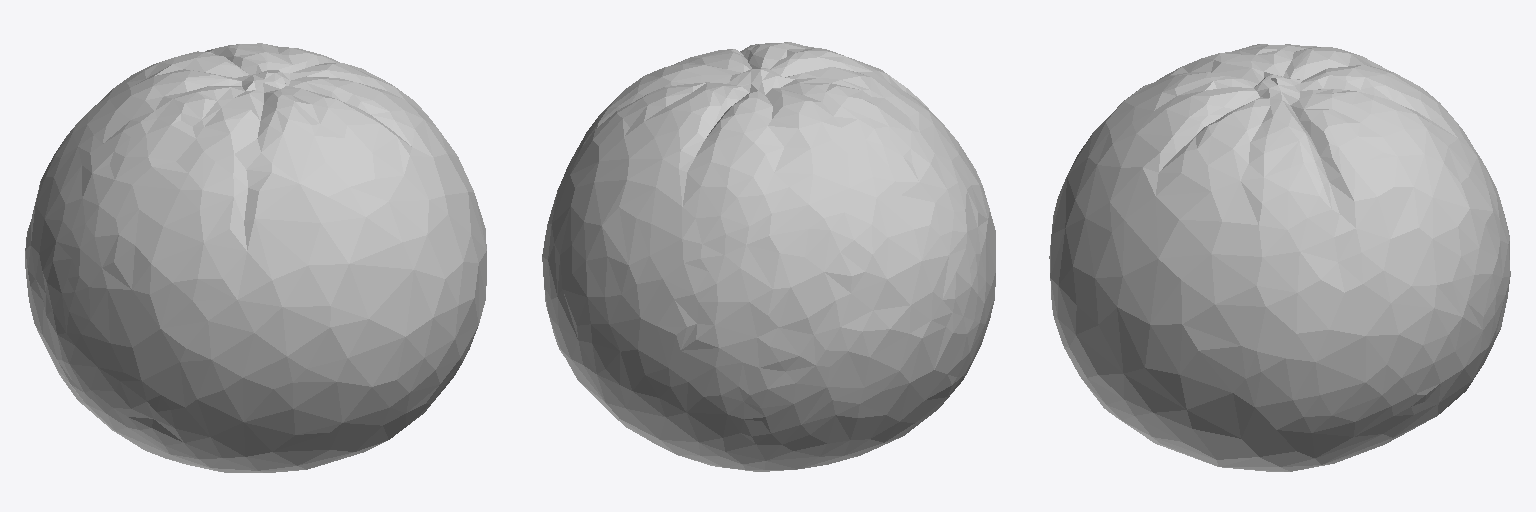
File: orange2.obj
3 renders of one model, left to right at view 1: azimuth 30°, elevation 25°; view 2: azimuth 150°, elevation 25°; view 3: azimuth 270°, elevation 25°, orthographic.
Visible parts, largest first — view 1: Orange1; view 2: Orange1; view 3: Orange1.
Part boxes in pixels (left/top/right/bottom): Orange1: left=25, top=43, right=486, bottom=472; Orange1: left=542, top=42, right=995, bottom=471; Orange1: left=1049, top=44, right=1510, bottom=471.
Size of the model in its own units: 2.48 by 2.17 by 2.48.